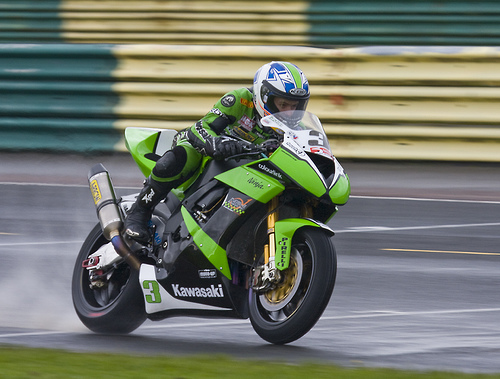helmet: (251, 65, 314, 119)
